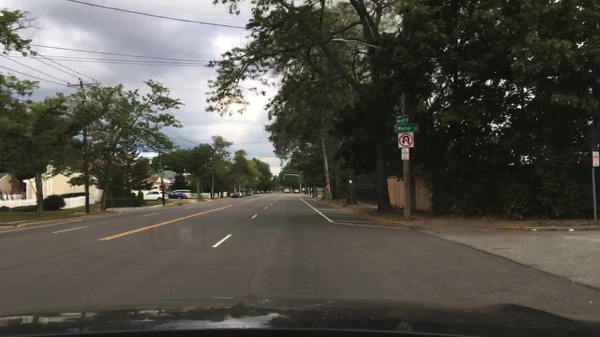car: (141, 191, 169, 203), (174, 189, 191, 198), (169, 192, 186, 201), (229, 191, 239, 198), (244, 190, 252, 198), (309, 187, 319, 193), (239, 191, 247, 198), (292, 189, 301, 195), (283, 188, 290, 195), (277, 188, 285, 194), (257, 189, 264, 195), (249, 188, 255, 195), (268, 190, 275, 195)
person: (300, 187, 305, 195)
traffic light: (282, 176, 286, 182)
traffic sign: (397, 134, 414, 149), (395, 123, 419, 132), (400, 149, 410, 162), (395, 115, 409, 124), (593, 152, 599, 167), (155, 172, 164, 176), (160, 176, 168, 180)
